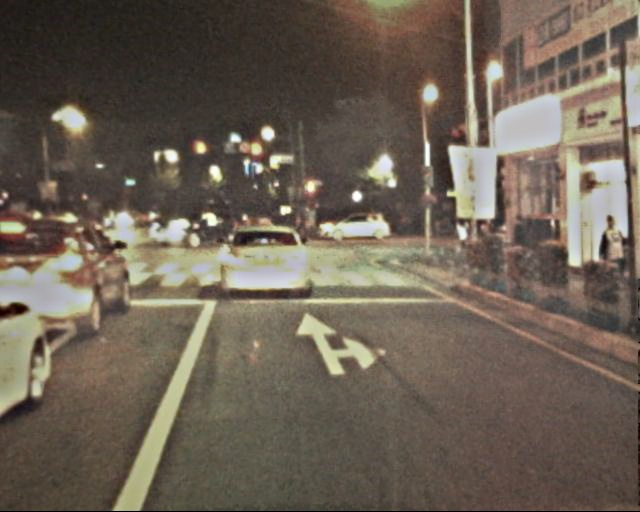person: (599, 214, 626, 293), (509, 213, 532, 268), (454, 218, 474, 264)
